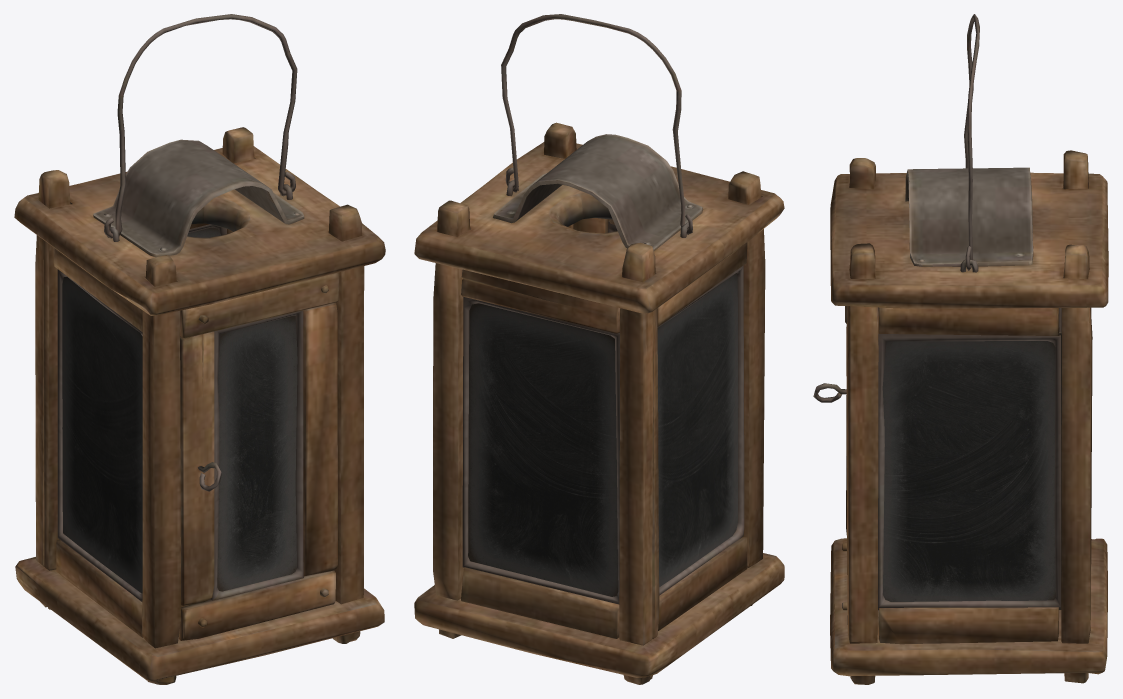
File: wooden_lantern_01.glb
3 views of the same model, side by side, from view 1: azimuth 30°, elevation 25°; view 2: azimuth 150°, elevation 25°; view 3: azimuth 270°, elevation 25° (orthographic).
Parts seen in each view (by area): view 1: wooden_lantern_01, wooden_lantern_01_door, wooden_lantern_01_handle; view 2: wooden_lantern_01, wooden_lantern_01_handle, wooden_lantern_01_door; view 3: wooden_lantern_01, wooden_lantern_01_handle, wooden_lantern_01_door.
Part boxes in pixels (left/top/right/bottom): wooden_lantern_01: left=14, top=127, right=385, bottom=684; wooden_lantern_01_door: left=178, top=272, right=339, bottom=640; wooden_lantern_01_handle: left=104, top=14, right=297, bottom=238; wooden_lantern_01: left=414, top=122, right=784, bottom=684; wooden_lantern_01_handle: left=501, top=14, right=692, bottom=234; wooden_lantern_01_door: left=573, top=218, right=617, bottom=233; wooden_lantern_01: left=830, top=150, right=1108, bottom=684; wooden_lantern_01_handle: left=964, top=14, right=979, bottom=270; wooden_lantern_01_door: left=813, top=306, right=847, bottom=624.
Bounding box in the file's own units: 0.221 × 0.5287 × 0.2341.
2 materials, 2 textured.
